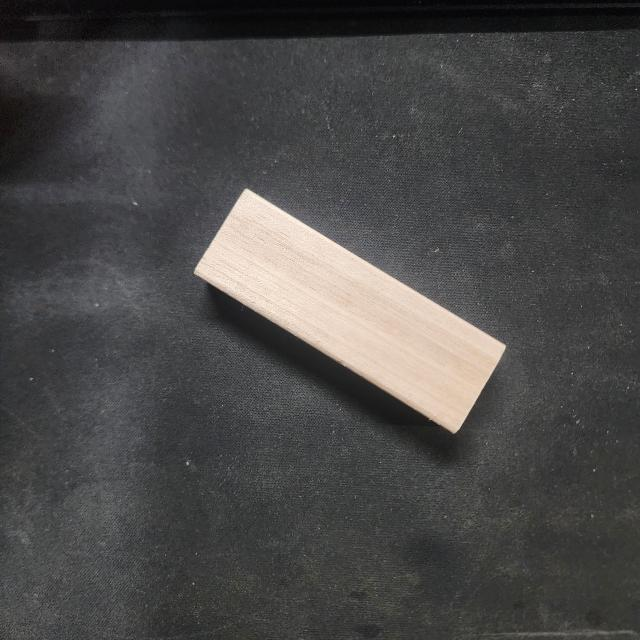wood: (191, 189, 509, 437)
